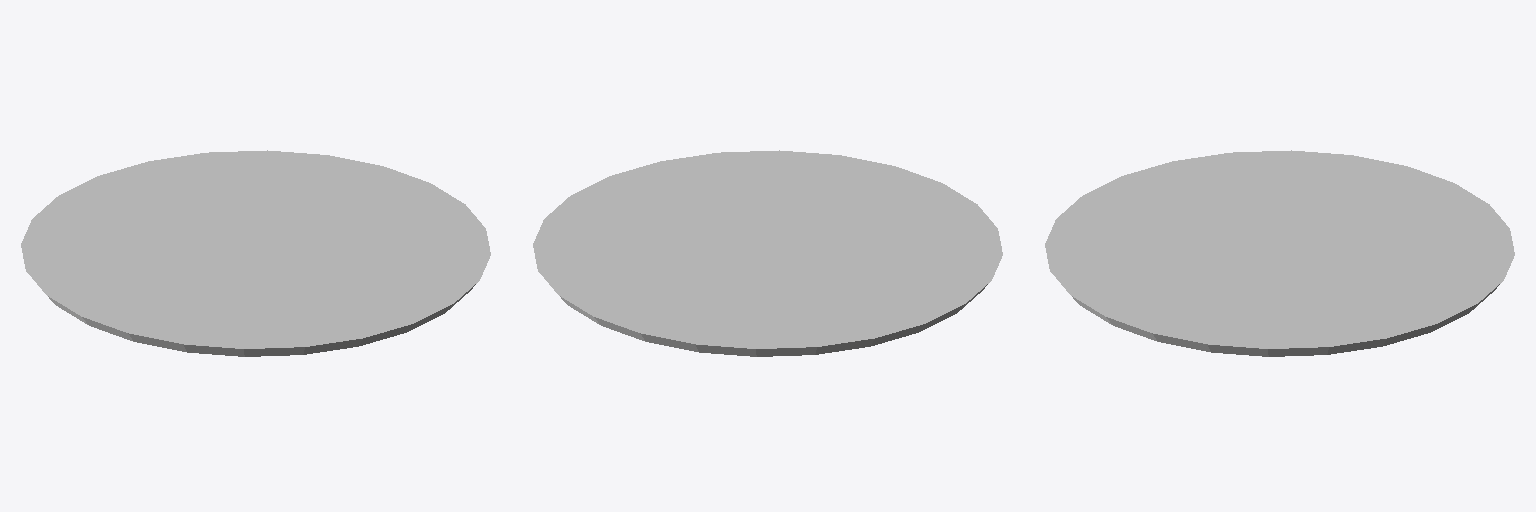
File: original-19.obj
The picture shows the model from 3 angles: view 1: azimuth 30°, elevation 25°; view 2: azimuth 150°, elevation 25°; view 3: azimuth 270°, elevation 25°; orthographic projection.
Visible parts, largest first — view 1: group_11/ID136#ID136; view 2: group_11/ID136#ID136; view 3: group_11/ID136#ID136.
Part boxes in pixels (left/top/right/bottom): group_11/ID136#ID136: left=21, top=150, right=490, bottom=356; group_11/ID136#ID136: left=533, top=150, right=1002, bottom=356; group_11/ID136#ID136: left=1045, top=150, right=1514, bottom=356.
Size of the model in its own units: 1.18 by 0.0341 by 1.18.